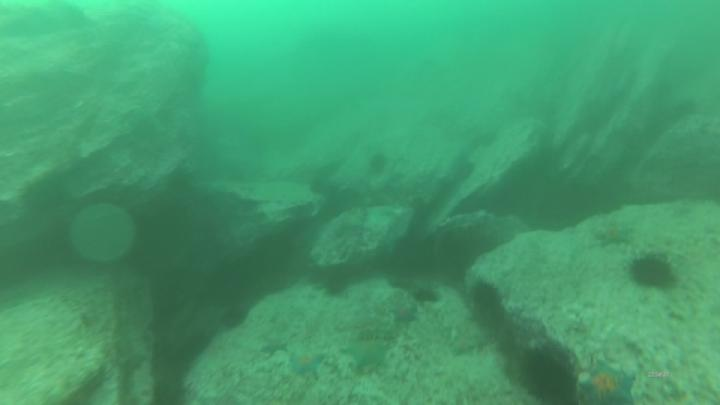echinus: (529, 353, 569, 405), (474, 287, 504, 324), (635, 259, 670, 287), (222, 303, 251, 331), (324, 274, 349, 296), (371, 153, 387, 177)
holothurian: (359, 329, 399, 344)
starfish: (587, 366, 633, 405), (342, 342, 386, 369), (288, 349, 321, 374), (600, 225, 635, 244), (451, 333, 478, 356), (391, 303, 417, 321), (262, 337, 285, 352)
